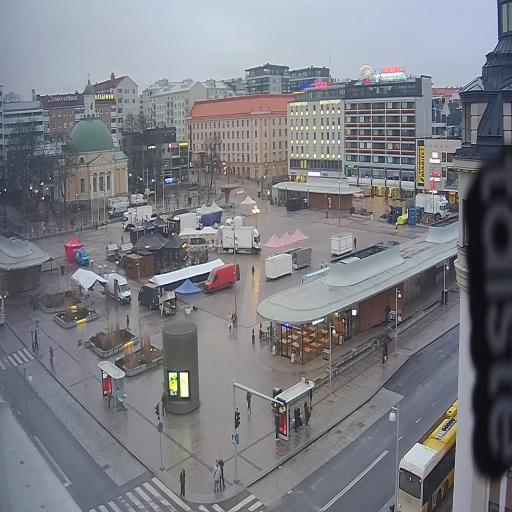bus: (393, 396, 460, 512), (0, 290, 8, 328)
delivery: (219, 223, 264, 258), (204, 260, 242, 296), (105, 270, 132, 308), (122, 202, 154, 232), (415, 194, 447, 222), (138, 280, 163, 313), (223, 212, 247, 232), (73, 246, 90, 270), (108, 200, 128, 220), (127, 191, 149, 208)
